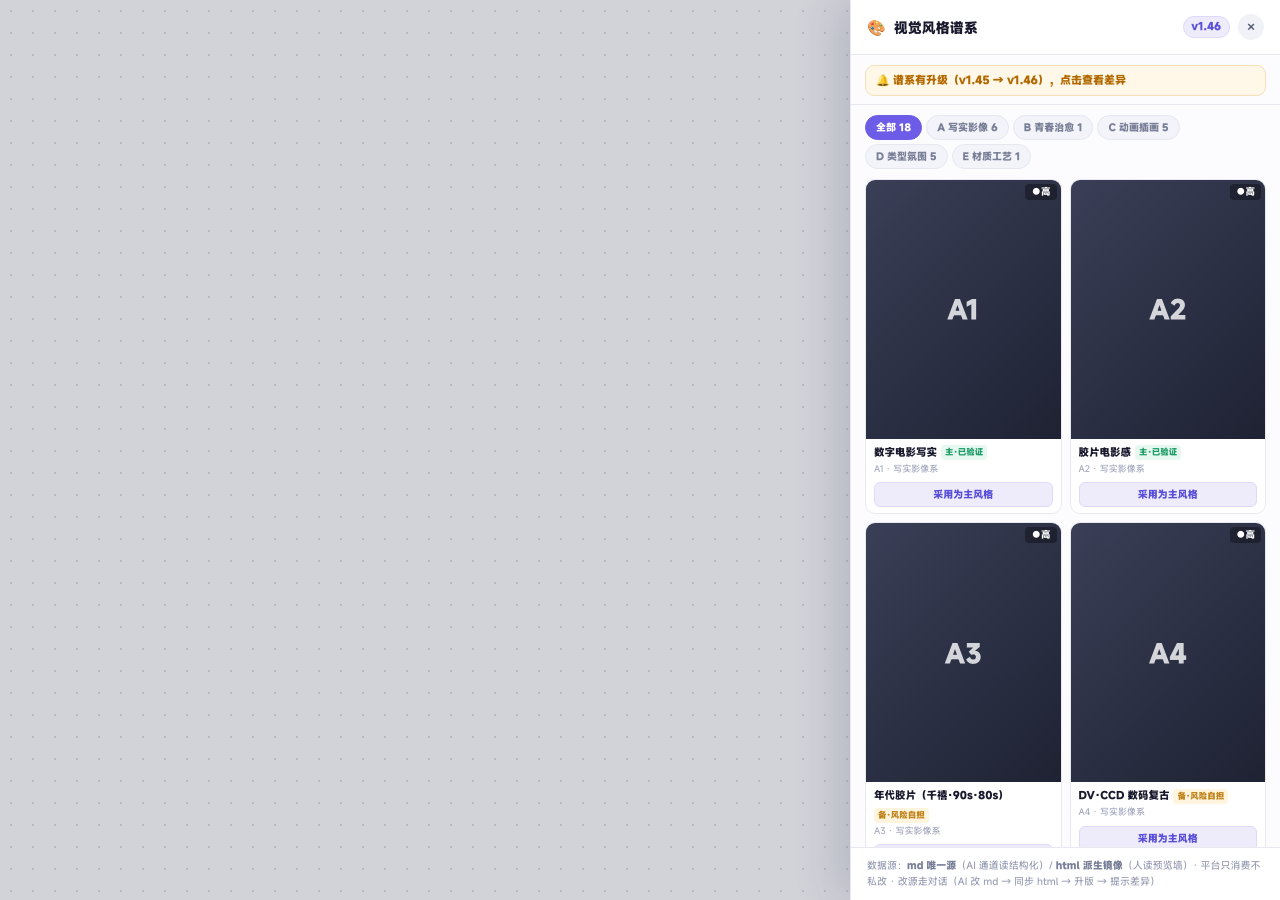
Scenario: VisualCatalog 谱系升级差异工作流（feature-810 AC5） › 差异面板 › blocking（引用风格已移除）→ 警示 + 「已移除」+ 采纳 disabled（title 提示重选）
Step 1. Click the button "🔔 谱系有升级（v1.45 → v1.46），点击查看差异" → coordinates (1066, 80), box x1=865 y1=65 x2=1266 y2=96
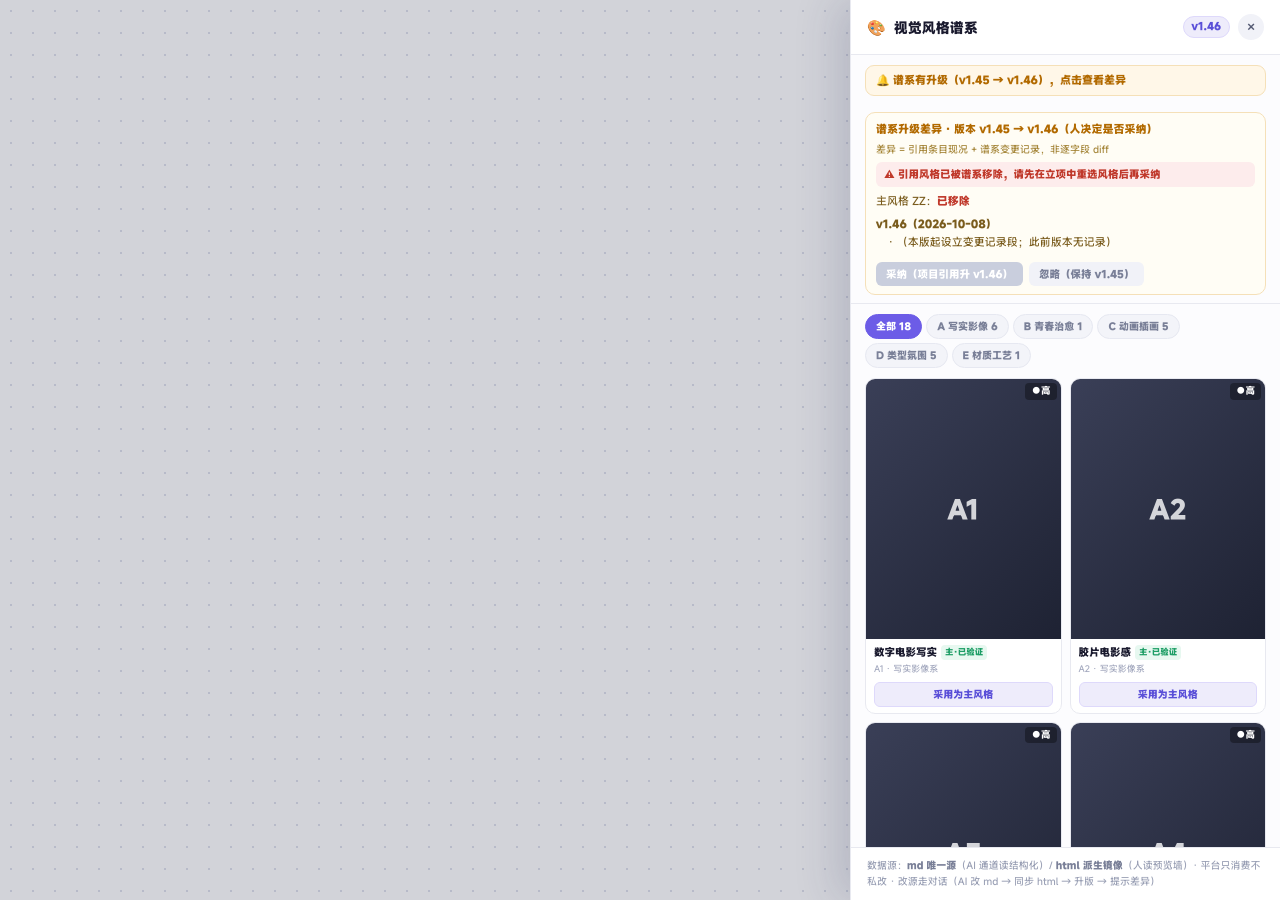
expect the element with test id "style-upgrade-panel" is shown: met, box x1=865 y1=112 x2=1266 y2=296
expect the text "⚠ 引用风格已被谱系移除，请先在立项中重选风格后再采纳" is shown: met, box x1=876 y1=162 x2=1255 y2=187
expect the element with test id "style-upgrade-ref" shows "主风格 ZZ": met, box x1=876 y1=194 x2=970 y2=208
